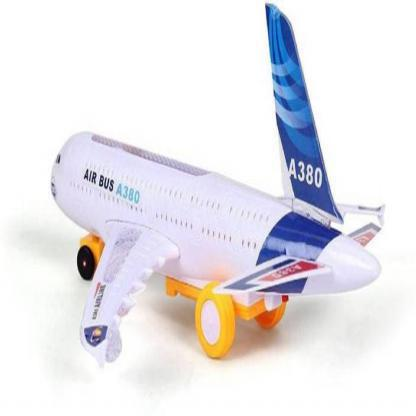CIV_Plane: (46, 2, 384, 399)
